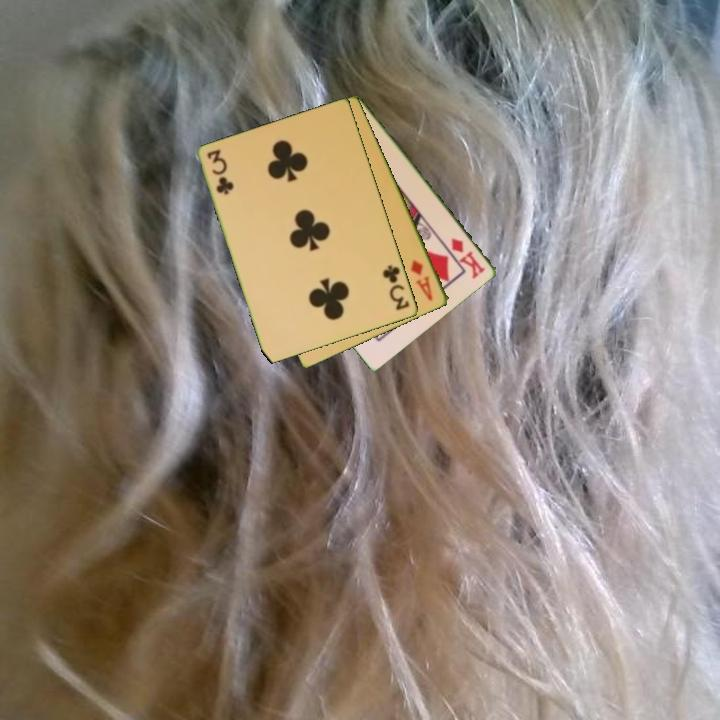3c: (379, 262, 413, 313), (204, 146, 236, 198)
Ad: (408, 257, 436, 304)
Kd: (448, 234, 488, 281)
